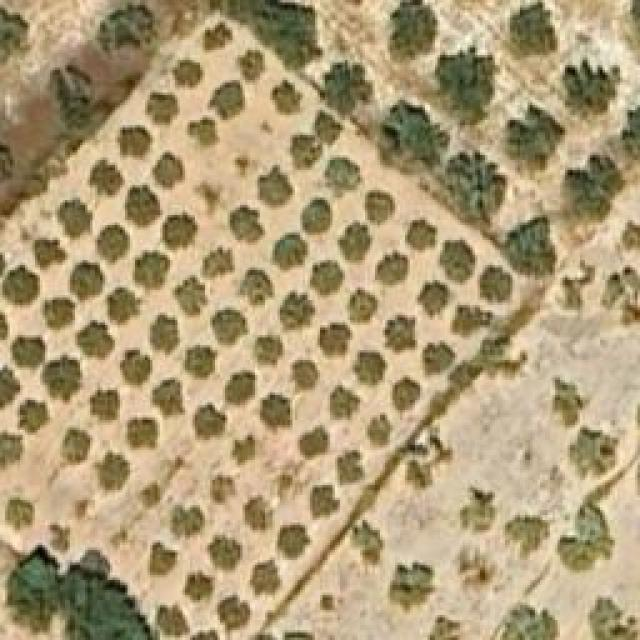Tree: (207, 0, 324, 72), (52, 553, 148, 640), (422, 38, 500, 141), (375, 100, 450, 175), (433, 150, 508, 223), (495, 102, 565, 180), (562, 57, 630, 125), (560, 155, 625, 225), (7, 545, 64, 622), (505, 218, 555, 281), (320, 63, 373, 118), (43, 65, 93, 123), (390, 0, 438, 58), (568, 425, 618, 480), (100, 8, 150, 61), (510, 3, 558, 58), (600, 268, 640, 328), (387, 563, 435, 613), (538, 375, 583, 428), (43, 353, 88, 406), (500, 602, 560, 640), (460, 483, 503, 536), (503, 518, 556, 561), (588, 595, 638, 640), (565, 508, 603, 563), (160, 505, 205, 548), (345, 518, 386, 565), (475, 335, 522, 376), (123, 182, 163, 230), (55, 197, 93, 245), (93, 450, 133, 493), (100, 288, 143, 328), (132, 250, 170, 295), (382, 313, 420, 356), (277, 290, 315, 333), (77, 320, 115, 363), (0, 0, 28, 58), (210, 308, 250, 348), (325, 158, 363, 198), (173, 275, 208, 318), (460, 550, 495, 593), (258, 165, 293, 208), (147, 152, 185, 190), (153, 378, 186, 421), (243, 268, 276, 311), (338, 223, 373, 263), (273, 233, 308, 273), (275, 520, 310, 560), (193, 403, 228, 443), (95, 223, 130, 263), (70, 263, 105, 303), (230, 205, 265, 245), (423, 340, 461, 376), (245, 495, 275, 540), (318, 322, 353, 360), (208, 535, 243, 573), (223, 370, 258, 408), (87, 160, 125, 195), (5, 267, 40, 305), (88, 383, 121, 423), (60, 428, 93, 468), (260, 393, 293, 433), (148, 313, 181, 353), (270, 80, 303, 118), (160, 215, 198, 248), (440, 240, 473, 278), (310, 260, 345, 295), (353, 350, 388, 385), (10, 335, 45, 370), (218, 595, 253, 630), (183, 345, 218, 380), (363, 190, 398, 225), (622, 98, 640, 163), (118, 128, 153, 161), (125, 418, 160, 451), (345, 288, 378, 323), (18, 400, 51, 435), (155, 603, 190, 636), (43, 298, 76, 333), (200, 248, 235, 281), (375, 250, 408, 285), (330, 385, 360, 423), (120, 350, 150, 388), (480, 265, 510, 303), (450, 308, 488, 338), (308, 485, 341, 518), (0, 430, 25, 473), (5, 497, 33, 535), (210, 85, 245, 115), (0, 363, 20, 413), (173, 60, 206, 90), (148, 543, 178, 576), (298, 428, 331, 458), (253, 335, 283, 368), (408, 218, 438, 251), (302, 198, 330, 233), (392, 375, 420, 410), (337, 450, 365, 485), (252, 558, 280, 593), (185, 117, 218, 145), (420, 280, 448, 313), (148, 93, 178, 123), (368, 413, 393, 448), (185, 570, 215, 598), (290, 137, 320, 165), (32, 240, 60, 268), (293, 360, 318, 390), (233, 435, 256, 463), (315, 115, 338, 140), (213, 475, 233, 503), (622, 223, 640, 253), (240, 55, 263, 78), (205, 28, 225, 48), (320, 595, 335, 610)
